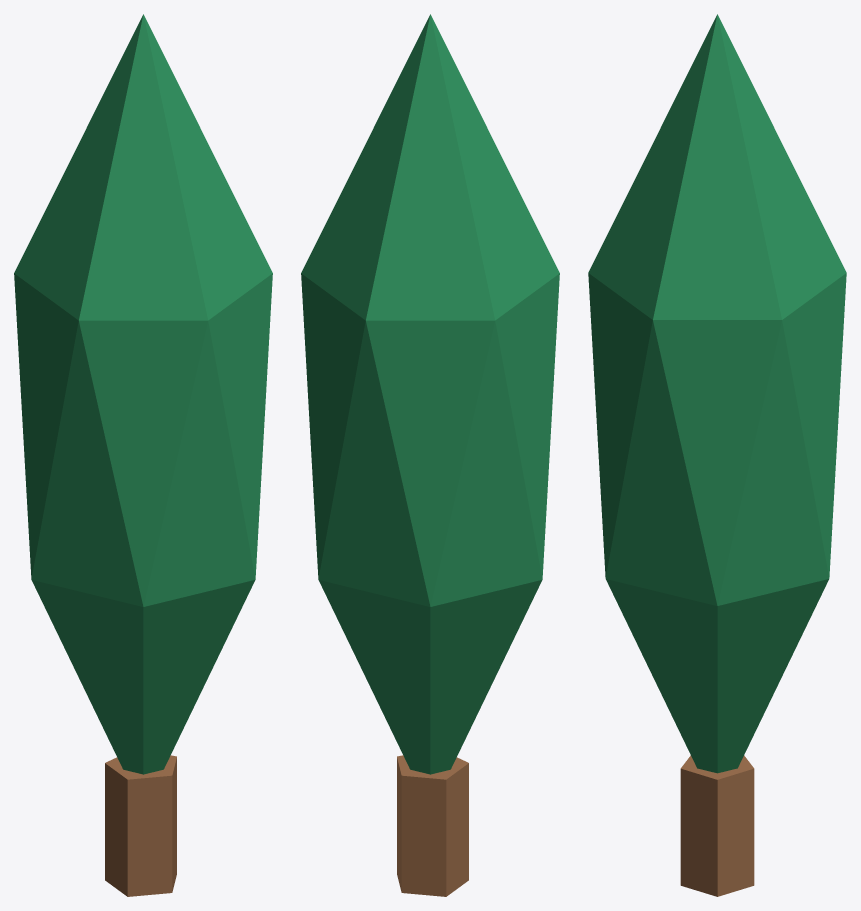
The model's file is tree_cypress.glb.
3 renders of one model, left to right at view 1: azimuth 30°, elevation 25°; view 2: azimuth 150°, elevation 25°; view 3: azimuth 270°, elevation 25°, orthographic.
Parts seen in each view (by area): view 1: tree_cypress; view 2: tree_cypress; view 3: tree_cypress.
Boxes of the visible parts, bbox=[...] form: tree_cypress: bbox=[14, 14, 272, 896]; tree_cypress: bbox=[301, 14, 559, 896]; tree_cypress: bbox=[588, 14, 846, 896].
Bounding box in the file's own units: 0.1 × 0.37 × 0.1.
